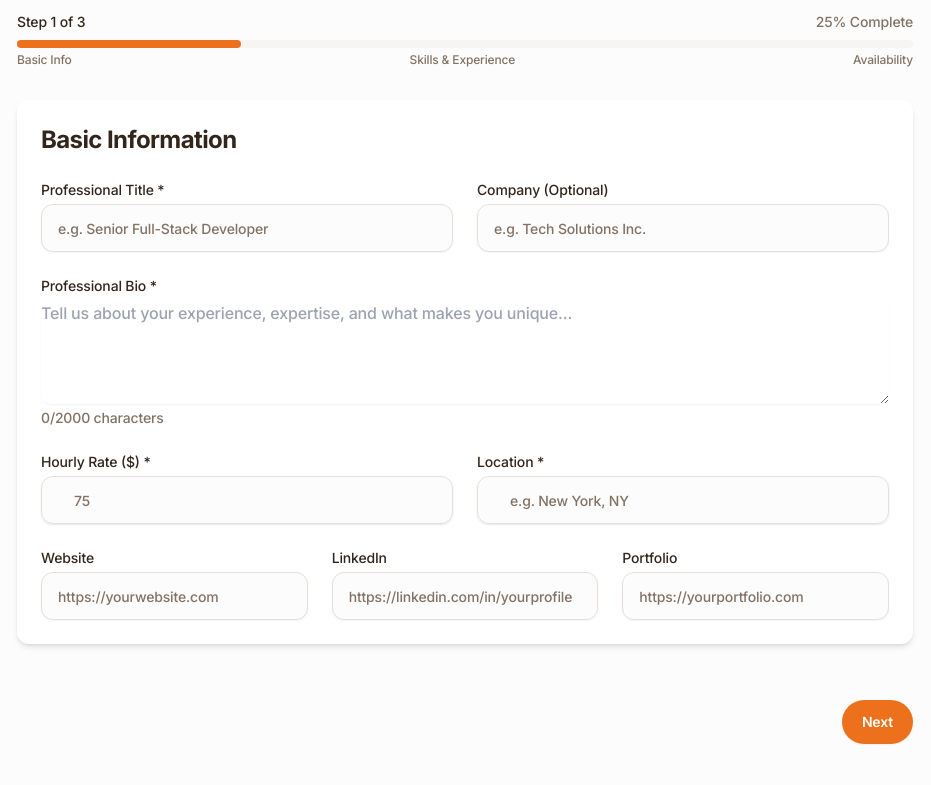
Test case: ProviderProfileForm › Step 1: Basic Information › should update bio character count when typing
Type "Test bio content" into the text box with test id "provider-bio-input".
click(465, 352); type("Test bio content")  # box [41, 300, 889, 404]
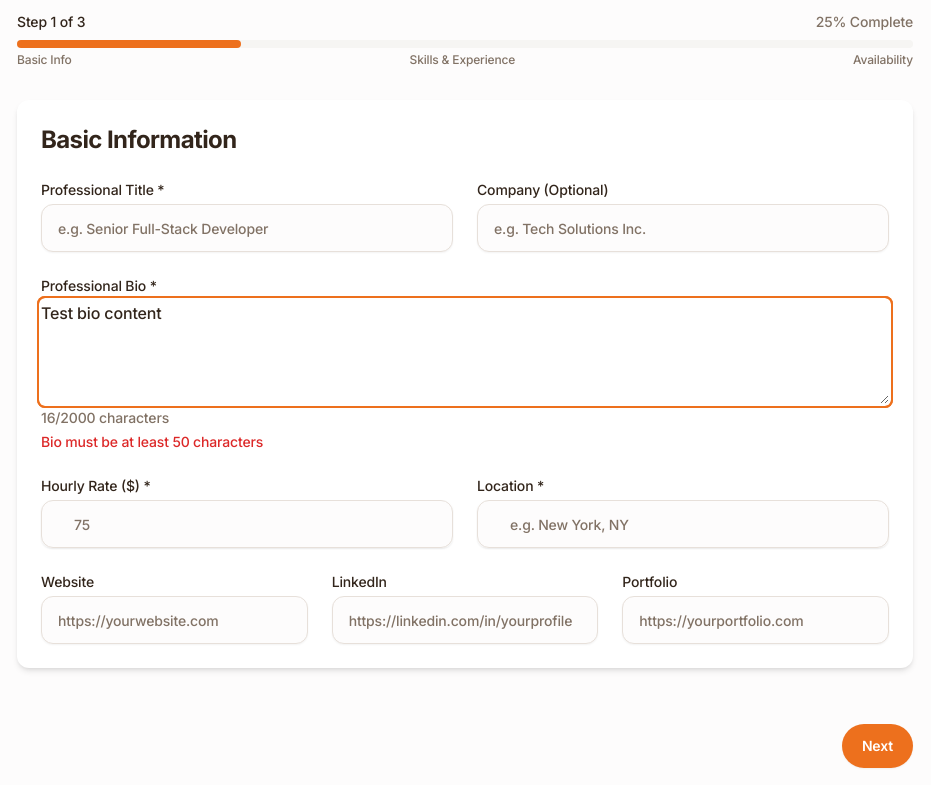
Expected: the text "16/2000 characters" is shown, [41, 409, 169, 426]
